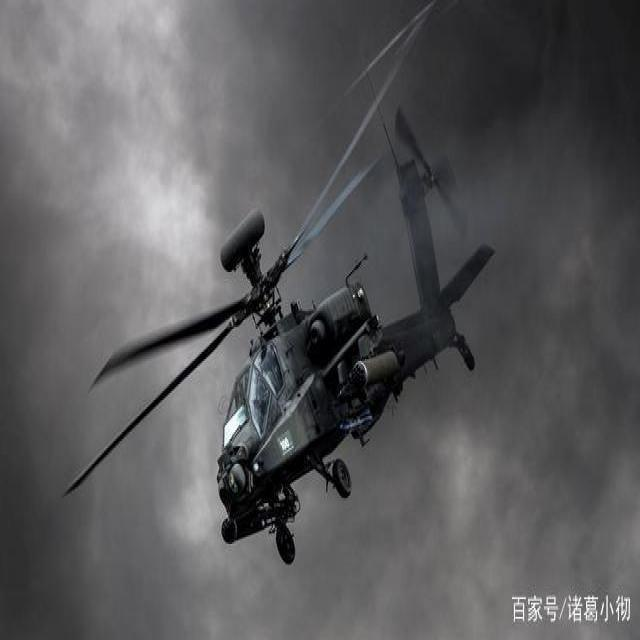MIL_HELO: (59, 38, 508, 570)
